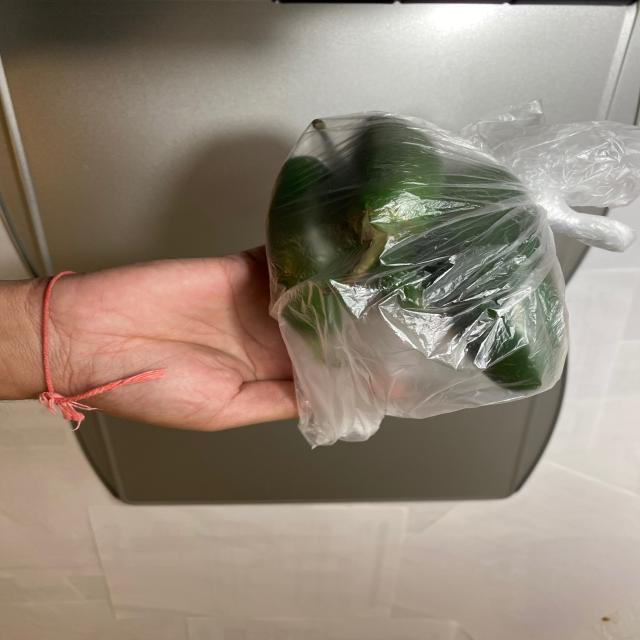chilli: (266, 110, 560, 397)
